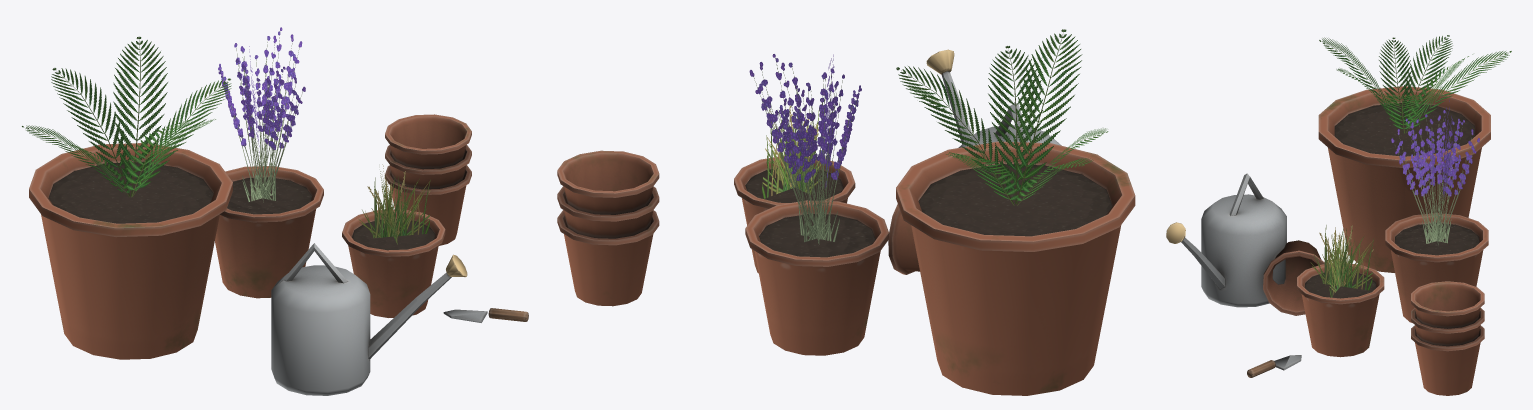
Rendered from PottingCluster.fbx.
The picture shows the model from 3 angles, left to right: view 1: azimuth 30°, elevation 25°; view 2: azimuth 150°, elevation 25°; view 3: azimuth 270°, elevation 25°; orthographic projection. The views are drawn at different scales.
Visible parts, largest first — view 1: PottingCluster_Main, PottingCluster_Leaves; view 2: PottingCluster_Main, PottingCluster_Leaves; view 3: PottingCluster_Main, PottingCluster_Leaves.
Part boxes in pixels (bbox=[...]): PottingCluster_Main: bbox=[29, 114, 528, 395]; PottingCluster_Leaves: bbox=[22, 27, 430, 244]; PottingCluster_Main: bbox=[557, 49, 1135, 395]; PottingCluster_Leaves: bbox=[749, 29, 1108, 244]; PottingCluster_Main: bbox=[1166, 86, 1490, 395]; PottingCluster_Leaves: bbox=[1310, 35, 1511, 297].
Bounding box in the file's own units: 433 × 230 × 329.
